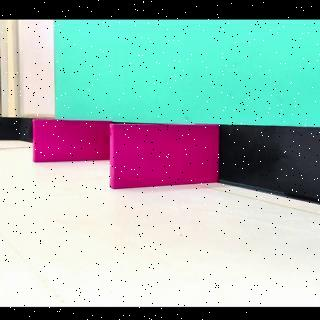xparking: (111, 124, 217, 188), (33, 120, 107, 162)
